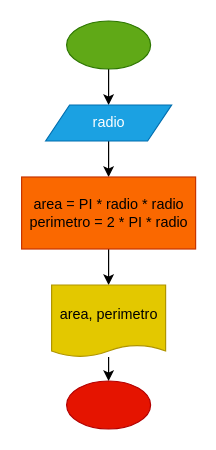
Some shapes in this 216 by 450 pixel diagram are drawn without their labels. Here are the shapes that lost their labels. From the top down, the centre of each, then its label:
point (108, 44): INICIO
point (108, 404): FIN
